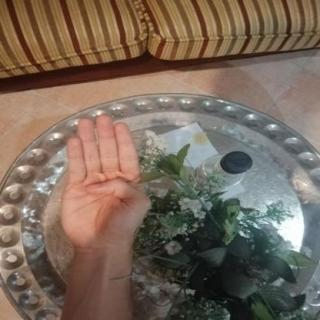KAAF: (46, 106, 162, 258)
